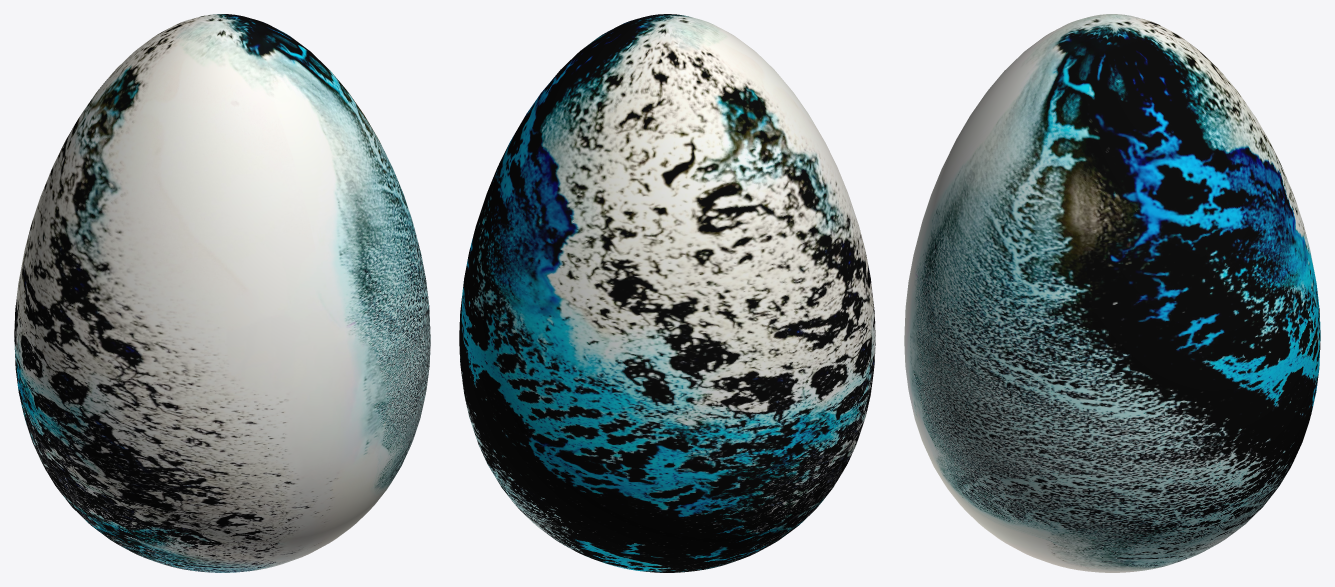
File: egg_22.glb
3 views of the same model, side by side, from view 1: azimuth 30°, elevation 25°; view 2: azimuth 150°, elevation 25°; view 3: azimuth 270°, elevation 25° (orthographic).
Parts seen in each view (by area): view 1: Sphere; view 2: Sphere; view 3: Sphere.
Boxes of the visible parts, x1,y1,x2,y2 form: Sphere: (14, 14, 430, 572); Sphere: (459, 14, 875, 572); Sphere: (904, 14, 1320, 572).
Size of the model in its own units: 0.3947 by 0.5569 by 0.3947.
1 material, 1 textured.
